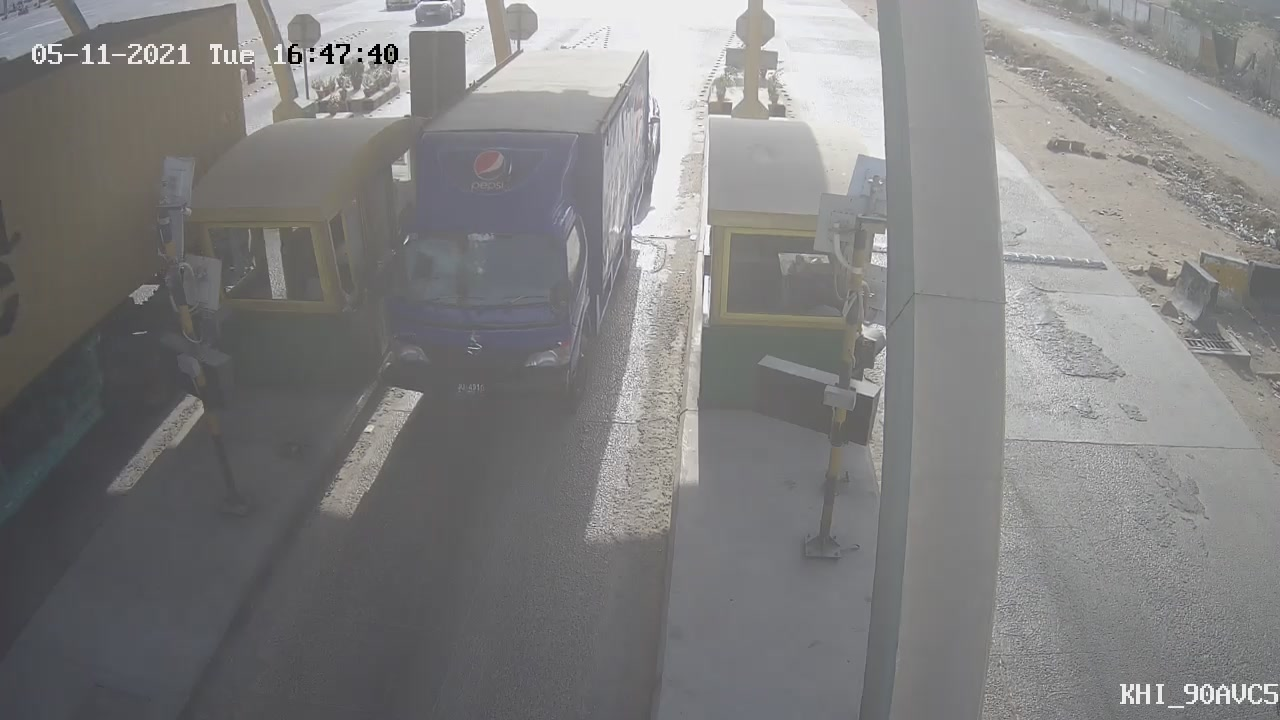F5: (326, 33, 682, 433)
